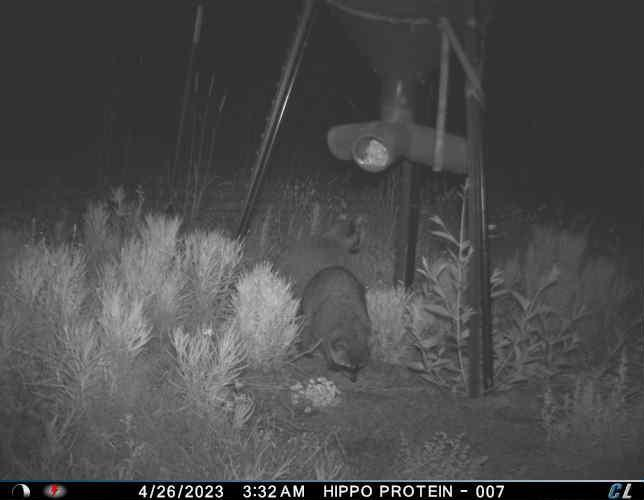Raccoon: (296, 262, 377, 385)
